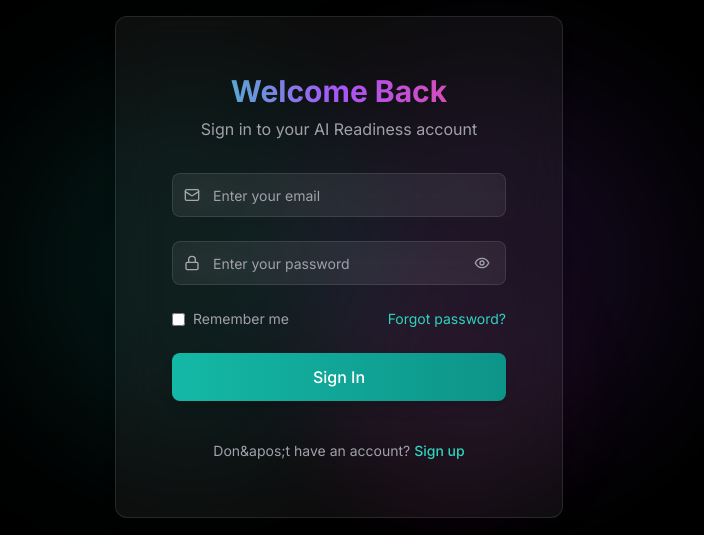
Test: LoginPage › shows loading state during submission
Type "test@example.com" into the field with placeholder "Enter your email" at (339,195), box [172,173,506,217]
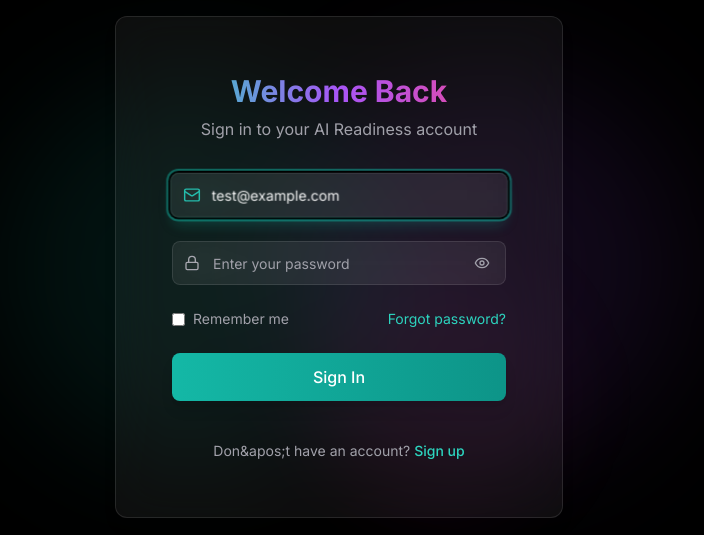
Type "ValidPassword123" into the password field with placeholder "Enter your password" at (339,263), box [172,241,506,285]
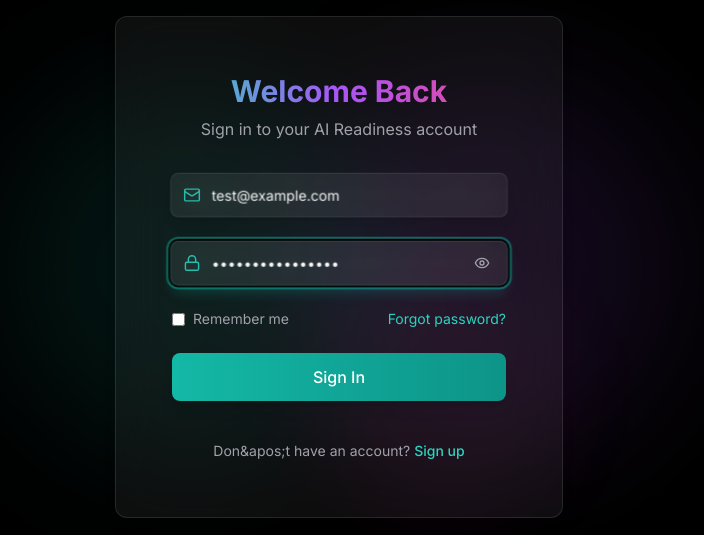
Click the button "Sign In" at (339,377), box [172,353,506,401]
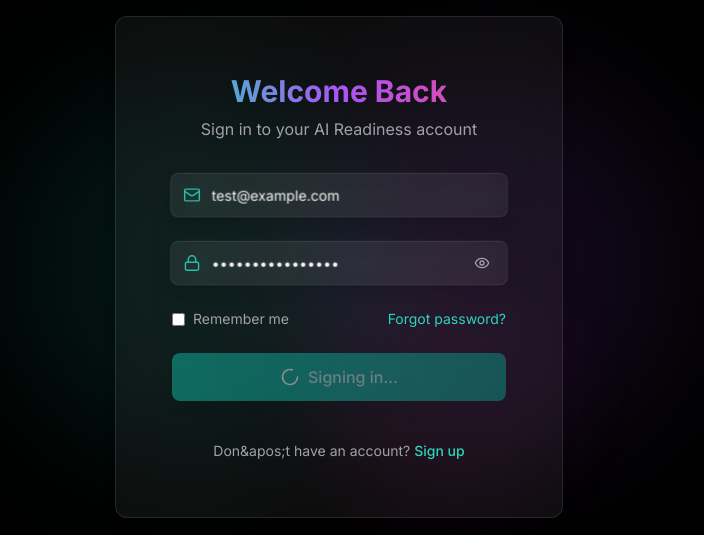
Now the text "Signing in..." is shown, box [308,365,398,389]
Now the button named "sign in" is disabled, box [172,353,506,401]
